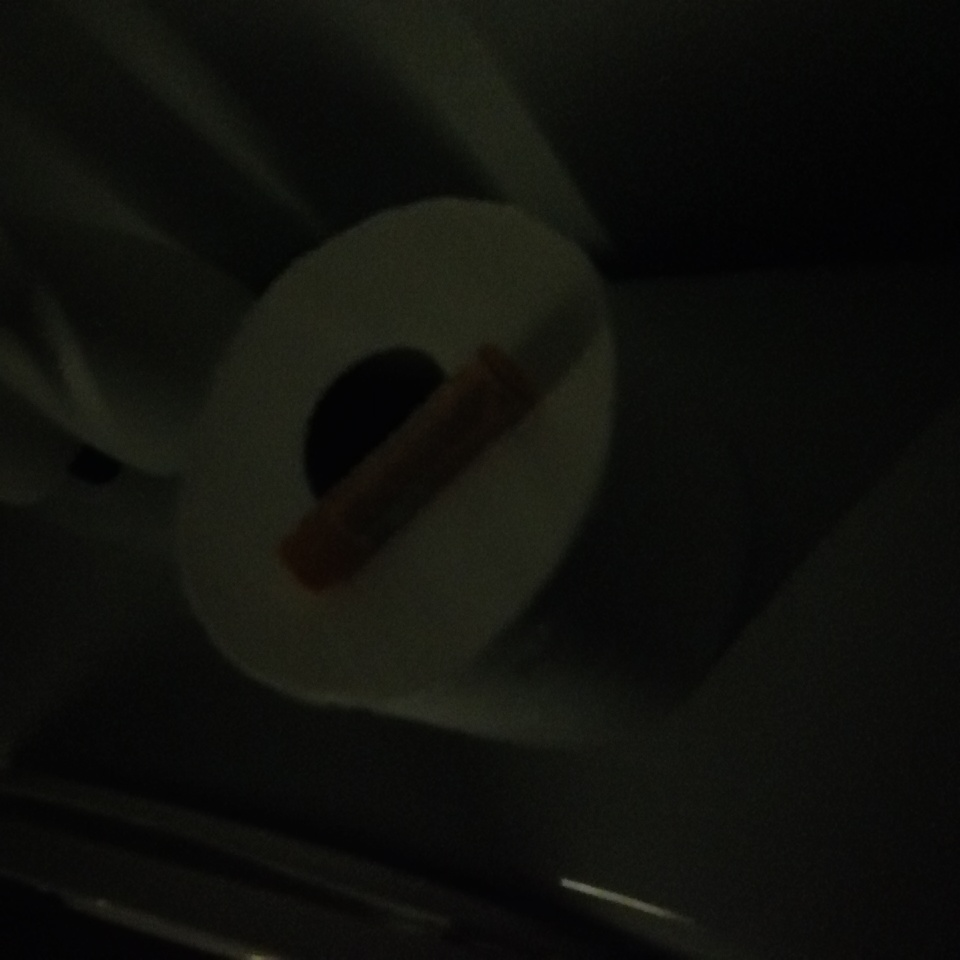chapstick: (277, 344, 537, 593)
